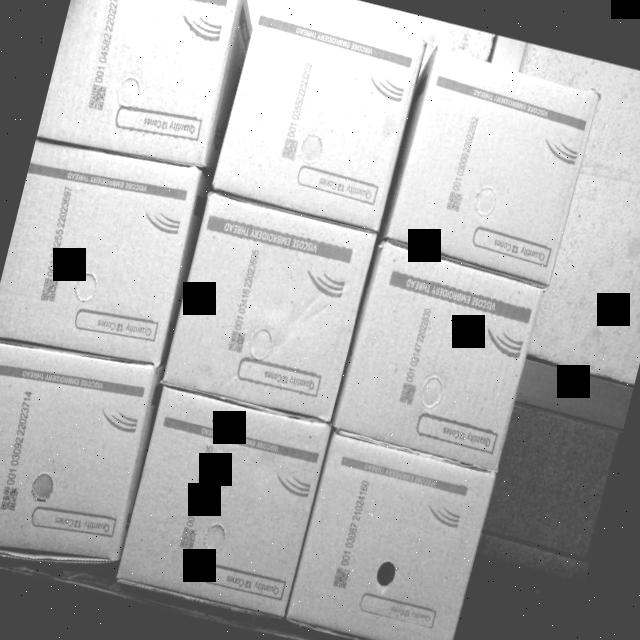box: (113, 384, 332, 632), (158, 182, 378, 424), (329, 237, 549, 478), (212, 0, 422, 230), (0, 139, 196, 384), (391, 56, 591, 282), (281, 434, 498, 640), (0, 336, 164, 594), (36, 0, 244, 174)
